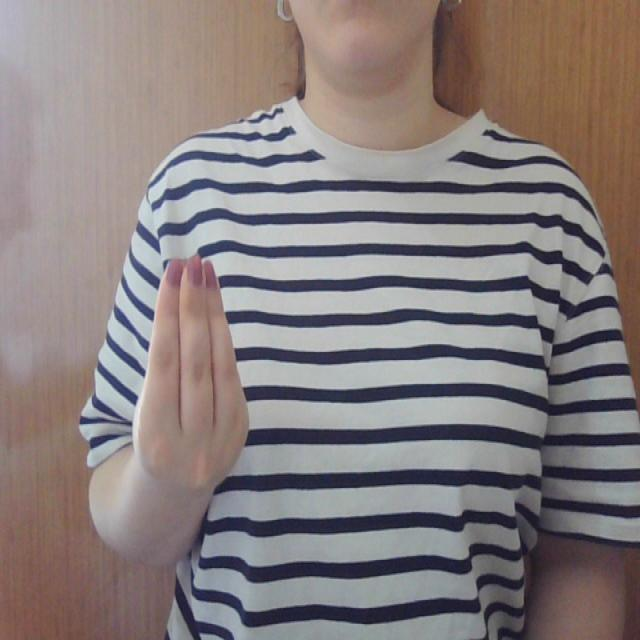iyi: (129, 244, 254, 493)
